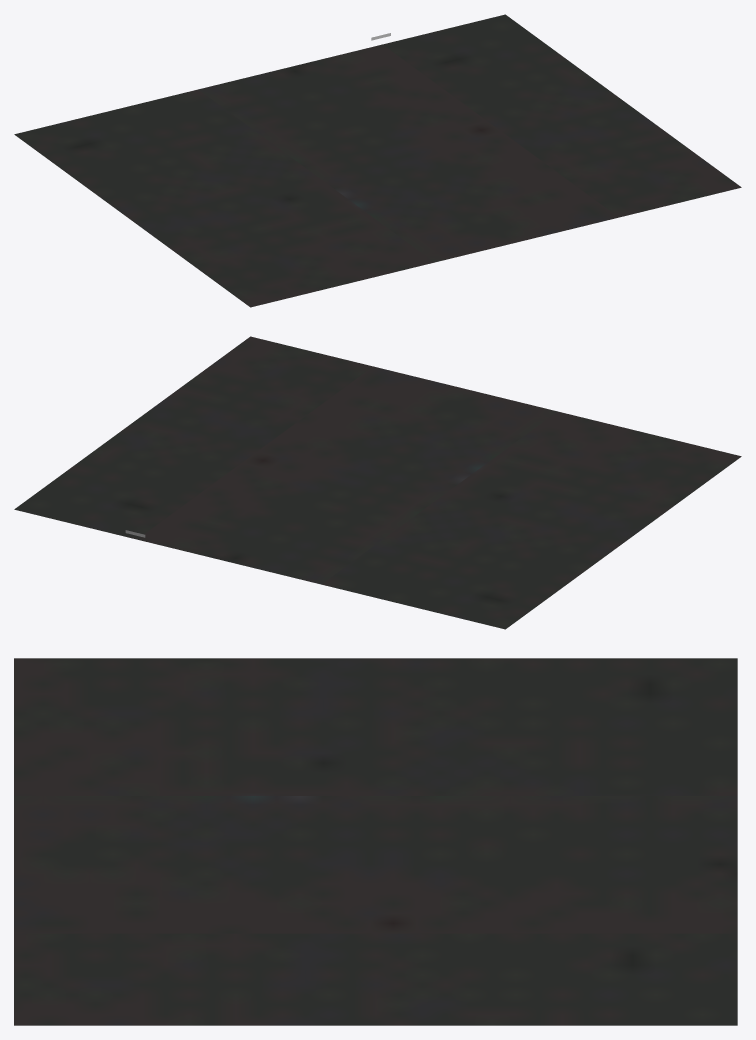
The model's file is blvd_kfcn.obj.
The picture shows the model from 3 angles, top to bottom: view 1: azimuth 30°, elevation 25°; view 2: azimuth 150°, elevation 25°; view 3: azimuth 270°, elevation 25°; orthographic projection. The views are drawn at different scales.
Visible parts, largest first — view 1: blvd_kfcn_Plane.005; view 2: blvd_kfcn_Plane.005; view 3: blvd_kfcn_Plane.005.
Boxes of the visible parts, bbox=[...] form: blvd_kfcn_Plane.005: bbox=[14, 14, 741, 307]; blvd_kfcn_Plane.005: bbox=[14, 336, 741, 629]; blvd_kfcn_Plane.005: bbox=[14, 658, 737, 1025].
Size of the model in its own units: 1.6 by 0.0254 by 1.34.
